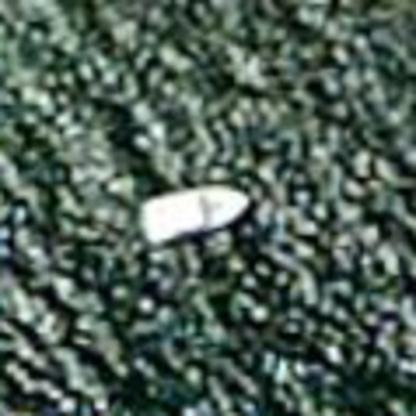ship: (128, 178, 259, 248)
